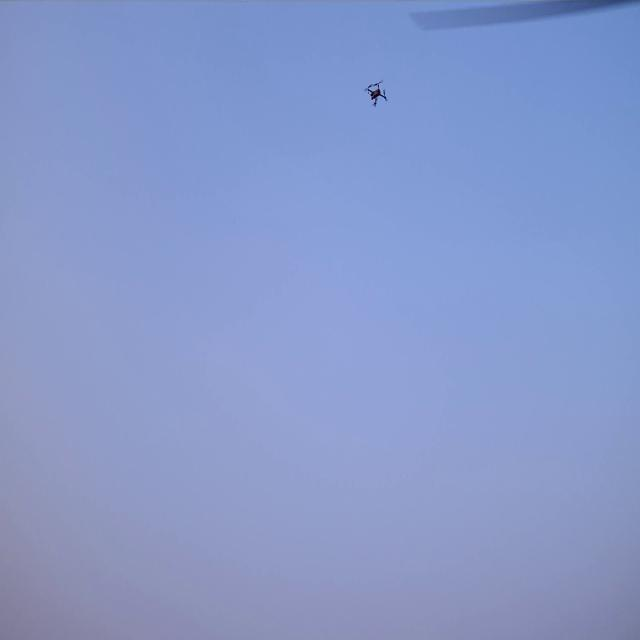UAV: (364, 78, 392, 110)
